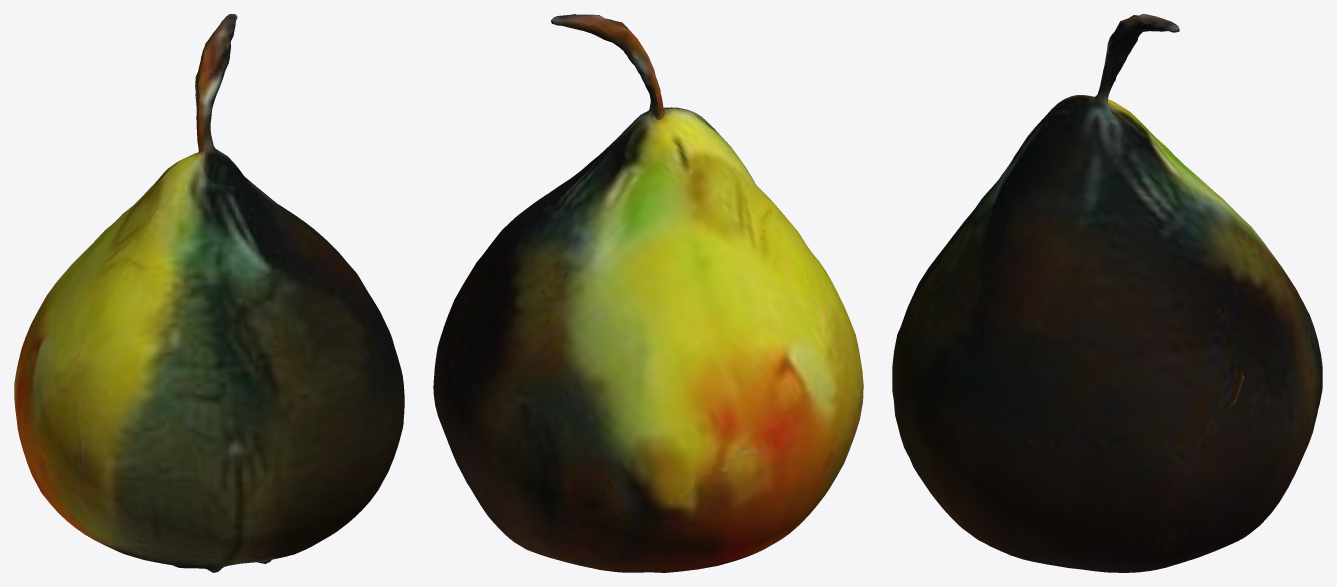
The picture shows the model from 3 angles, left to right: view 1: azimuth 30°, elevation 25°; view 2: azimuth 150°, elevation 25°; view 3: azimuth 270°, elevation 25°; orthographic projection. The views are drawn at different scales.
Visible parts, largest first — view 1: world; view 2: world; view 3: world.
Part boxes in pixels (bbox=[...]): world: bbox=[14, 14, 404, 572]; world: bbox=[433, 14, 863, 572]; world: bbox=[892, 14, 1322, 572].
Size of the model in its own units: 0.5538 by 0.7606 by 0.5518.
1 material, 1 textured.
